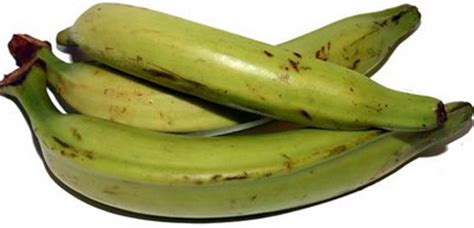banana: (22, 96, 472, 220), (64, 1, 448, 133), (62, 9, 406, 141)
